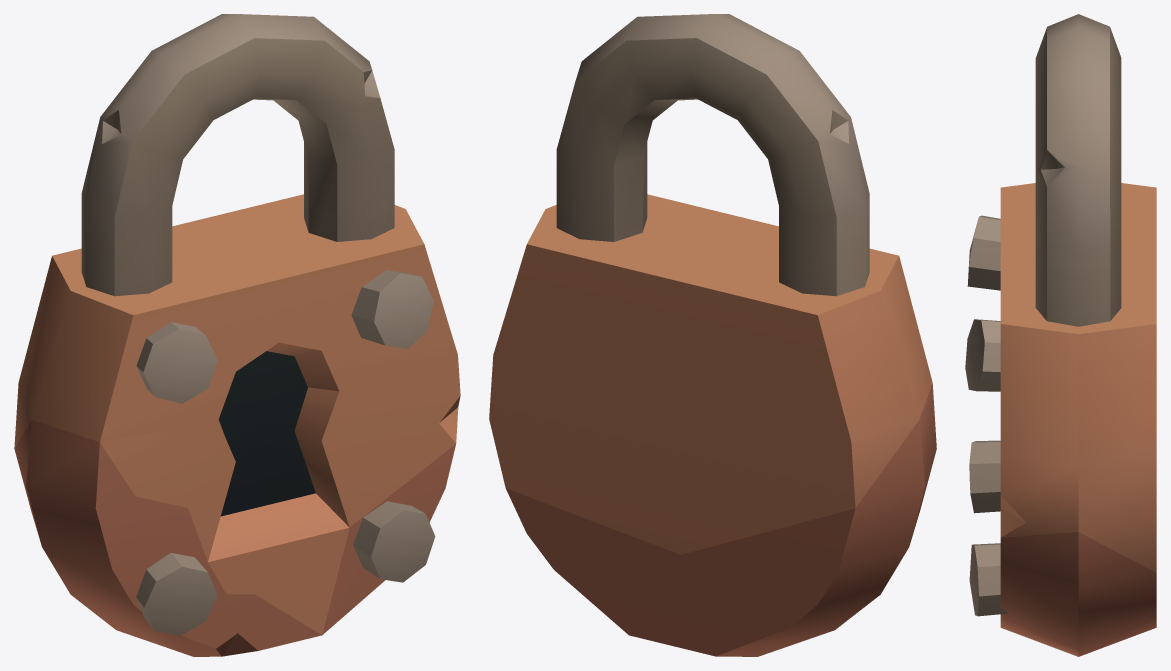
The model's file is lock_a.glb.
3 renders of one model, left to right at view 1: azimuth 30°, elevation 25°; view 2: azimuth 150°, elevation 25°; view 3: azimuth 270°, elevation 25°, orthographic. The views are drawn at different scales.
Visible parts, largest first — view 1: lock_A, lock_A_part; view 2: lock_A, lock_A_part; view 3: lock_A, lock_A_part.
Boxes of the visible parts, x1,y1,x2,y2 form: lock_A: [14, 194, 460, 656]; lock_A_part: [81, 14, 394, 296]; lock_A: [489, 194, 936, 656]; lock_A_part: [556, 14, 869, 296]; lock_A: [965, 183, 1156, 656]; lock_A_part: [1035, 14, 1121, 326].
Size of the model in its own units: 0.5963 by 0.8485 by 0.2426.
1 material, 1 textured.
